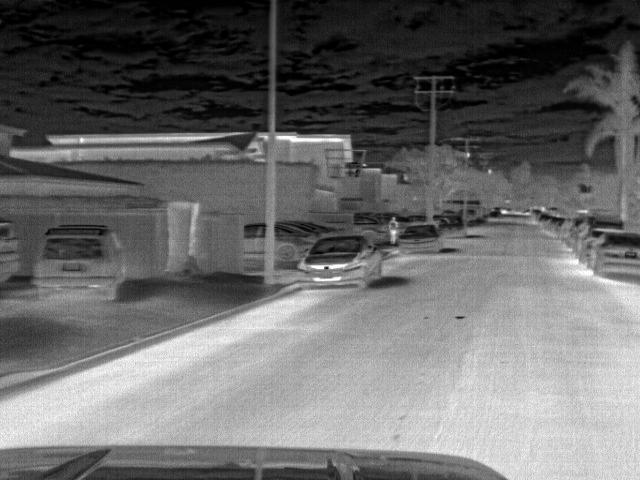car: (30, 220, 134, 303), (297, 234, 387, 290), (588, 233, 639, 283), (272, 221, 320, 271), (573, 215, 625, 251), (581, 229, 626, 264), (396, 224, 446, 255), (0, 215, 21, 287), (239, 221, 266, 274), (352, 212, 386, 242), (433, 214, 460, 230), (549, 220, 566, 237), (537, 213, 555, 228)
person: (387, 214, 400, 244)
